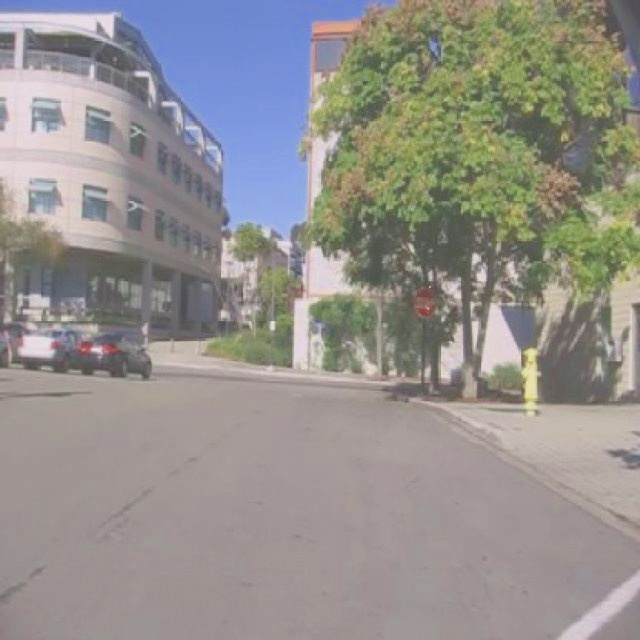stop: (412, 286, 437, 319)
